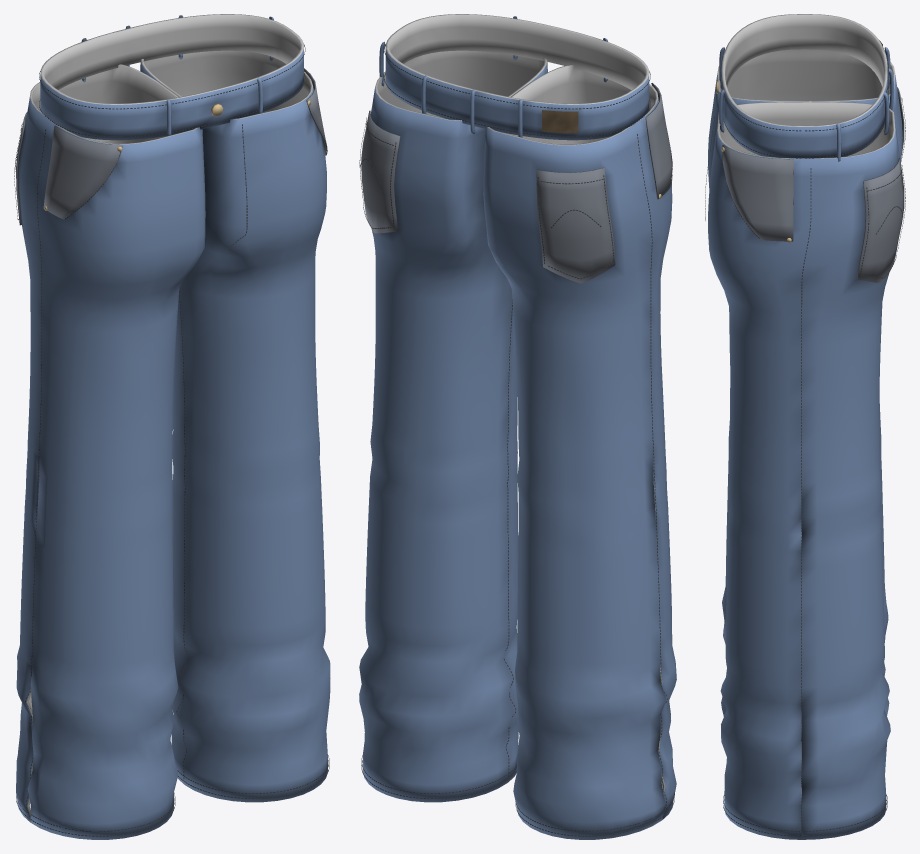
File: jeans-wide-lo.glb
The picture shows the model from 3 angles, left to right: view 1: azimuth 30°, elevation 25°; view 2: azimuth 150°, elevation 25°; view 3: azimuth 270°, elevation 25°; orthographic projection. The views are drawn at different scales.
Parts seen in each view (by area): view 1: leg_r, leg_l, waistband, frontpocket.001, stitches; view 2: leg_r, leg_l, waistband, backpocket.001, backpocket, stitches, frontpocket.001, patch; view 3: leg_l, waistband, leg_r, frontpocket, backpocket, stitches.
Boxes of the visible parts, x1=… form: leg_r: x1=16, y1=64, x2=205, y2=839; leg_l: x1=140, y1=50, x2=330, y2=802; waistband: x1=40, y1=14, x2=303, y2=140; frontpocket.001: x1=43, y1=125, x2=122, y2=219; stitches: x1=14, y1=44, x2=329, y2=836; leg_r: x1=483, y1=65, x2=676, y2=839; leg_l: x1=359, y1=50, x2=547, y2=802; waistband: x1=385, y1=14, x2=649, y2=140; backpocket.001: x1=536, y1=167, x2=615, y2=283; backpocket: x1=361, y1=110, x2=400, y2=233; stitches: x1=359, y1=44, x2=674, y2=836; frontpocket.001: x1=645, y1=83, x2=672, y2=199; patch: x1=542, y1=110, x2=578, y2=133; leg_l: x1=708, y1=102, x2=899, y2=839; waistband: x1=721, y1=14, x2=887, y2=158; leg_r: x1=708, y1=49, x2=902, y2=716; frontpocket: x1=722, y1=145, x2=793, y2=241; backpocket: x1=857, y1=158, x2=904, y2=283; stitches: x1=705, y1=52, x2=905, y2=836.
Size of the model in its own units: 0.4317 by 1.01 by 0.2612.
